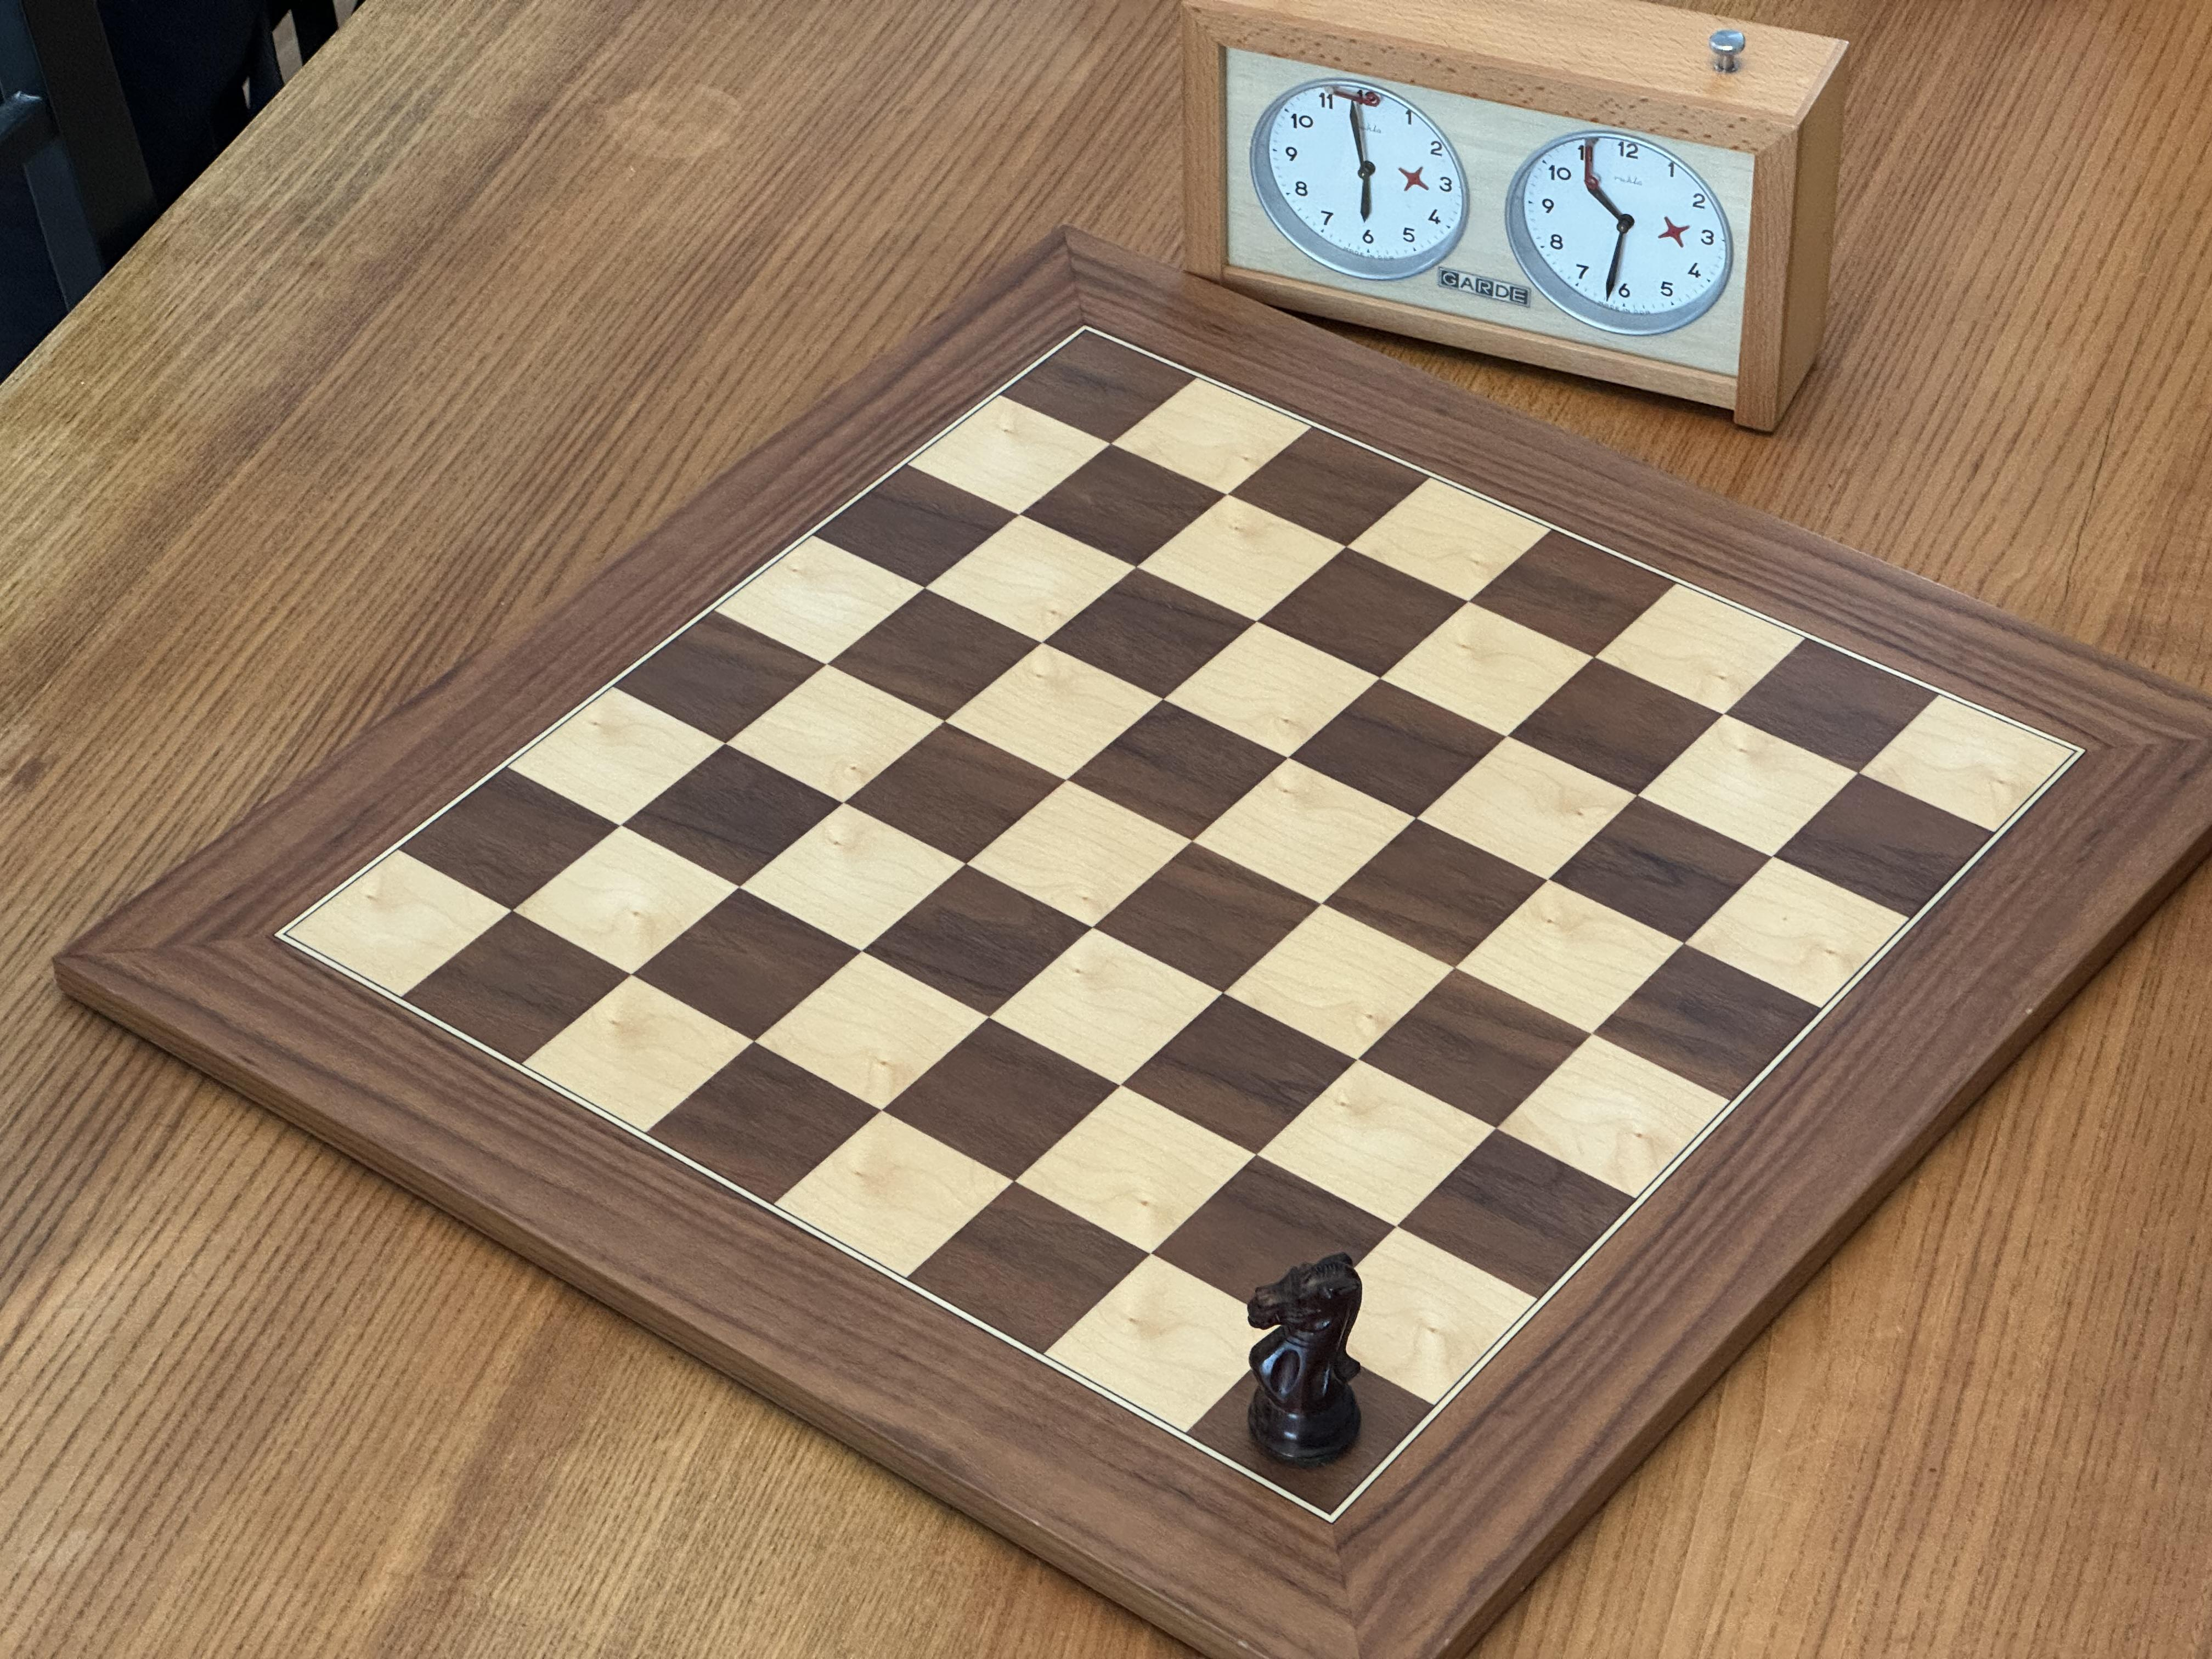corner A: (192, 852, 361, 1018)
corner B: (1233, 1425, 1421, 1612)
corner C: (2000, 667, 2163, 836)
